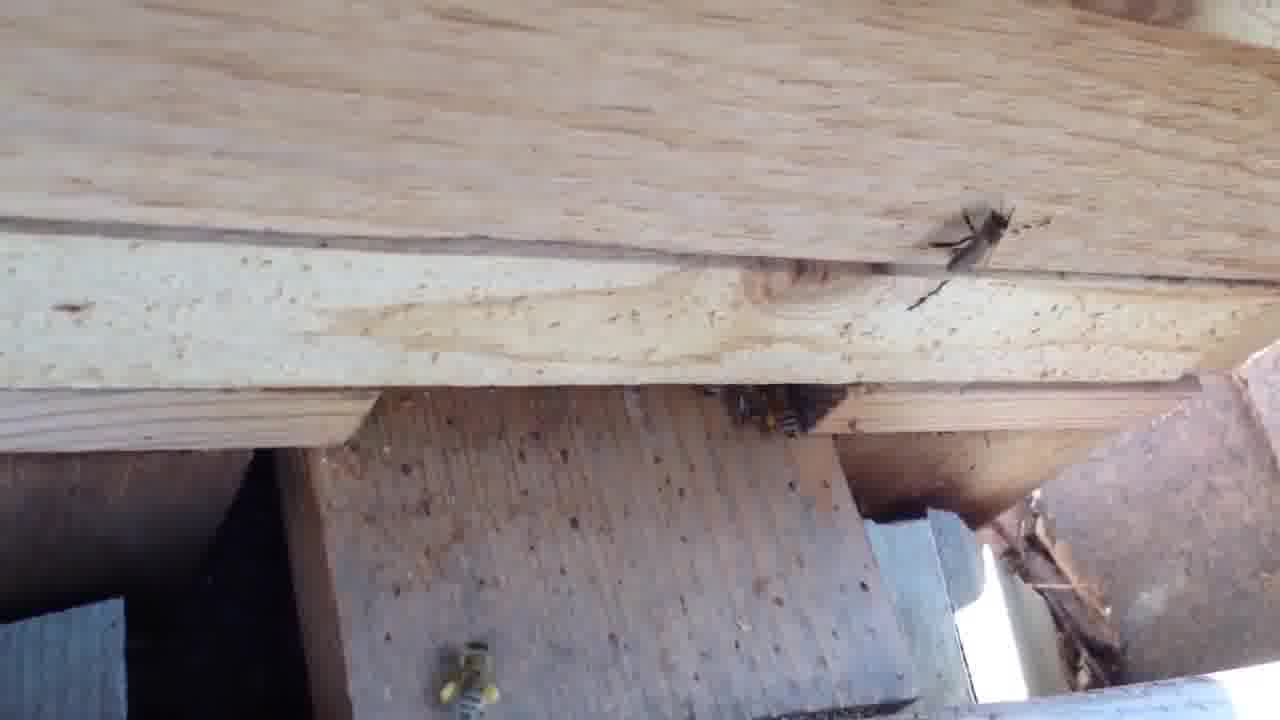pollen: (431, 636, 504, 720)
